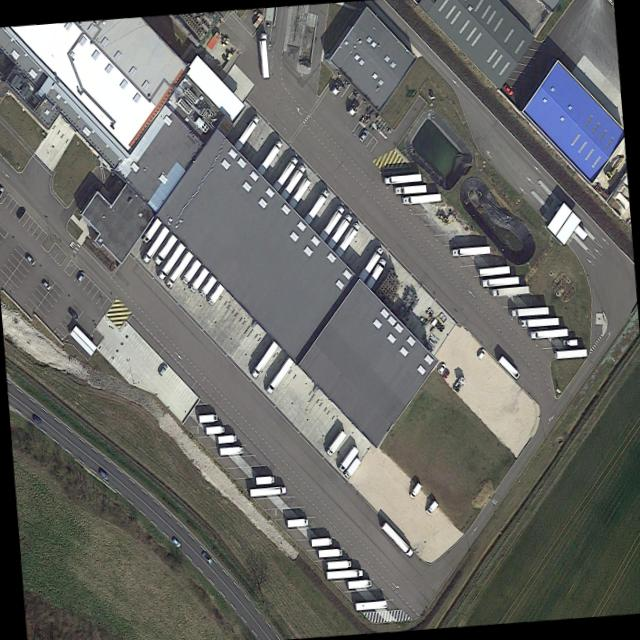large-vehicle: (381, 521, 414, 558), (265, 356, 294, 396), (157, 241, 186, 281), (250, 340, 279, 379), (142, 225, 170, 264), (303, 187, 330, 226), (166, 249, 193, 288), (271, 156, 299, 192), (333, 221, 360, 258), (319, 204, 345, 242), (326, 212, 352, 250), (280, 163, 306, 200), (234, 114, 260, 151), (358, 245, 383, 282), (257, 139, 283, 174), (154, 233, 178, 266), (365, 256, 387, 290), (498, 354, 521, 380), (325, 430, 347, 457), (338, 445, 359, 473), (189, 266, 209, 294), (141, 217, 162, 243), (182, 257, 201, 285), (383, 172, 422, 185), (258, 31, 269, 77), (480, 276, 519, 288), (490, 285, 529, 297), (402, 193, 441, 205), (519, 317, 559, 328), (528, 328, 568, 339), (207, 282, 225, 306), (199, 274, 217, 298), (451, 246, 490, 257), (510, 306, 549, 317), (326, 569, 363, 580), (344, 457, 361, 479), (394, 184, 426, 194), (347, 579, 372, 589), (317, 548, 342, 558), (327, 559, 351, 569), (410, 481, 422, 499), (426, 499, 438, 516), (311, 538, 332, 547), (287, 518, 308, 527), (563, 338, 577, 347)
small-vehicle: (199, 548, 213, 565), (95, 464, 109, 481), (66, 305, 80, 321), (30, 411, 43, 426), (357, 128, 369, 144), (502, 82, 514, 97), (15, 205, 26, 221), (436, 362, 447, 377), (25, 251, 36, 266), (40, 276, 51, 291), (157, 362, 168, 376), (75, 269, 86, 283), (477, 347, 486, 362), (171, 535, 181, 548), (0, 184, 4, 199)
